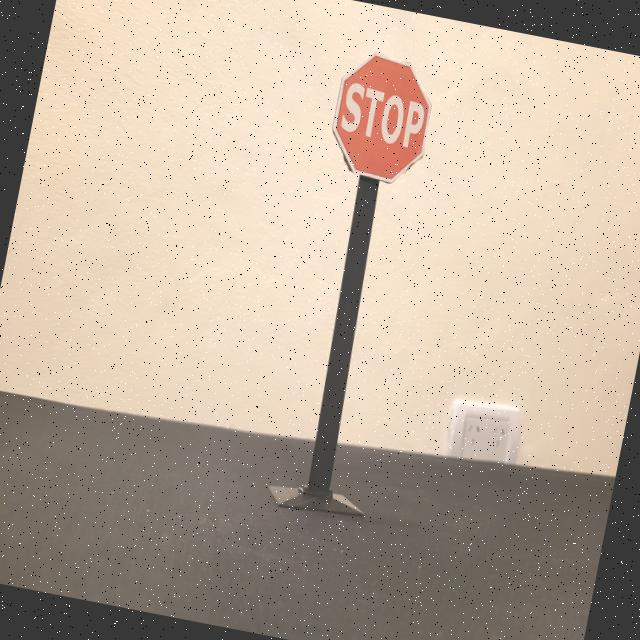stop: (320, 46, 443, 192)
